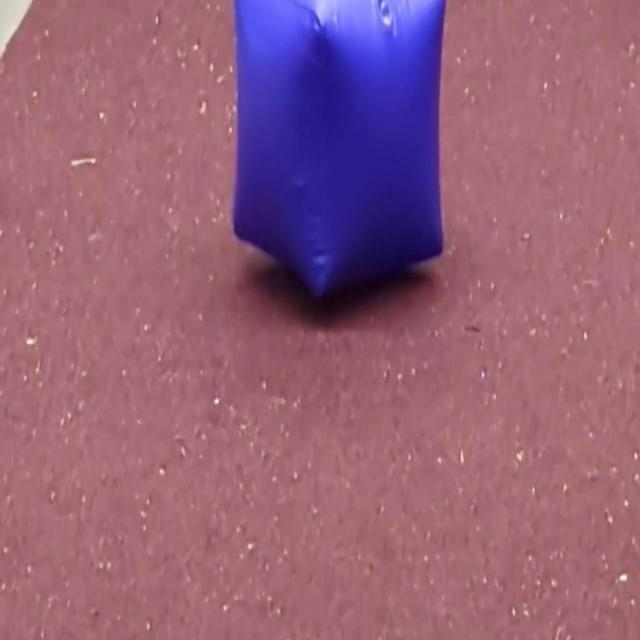frc_cube: (230, 0, 447, 310)
